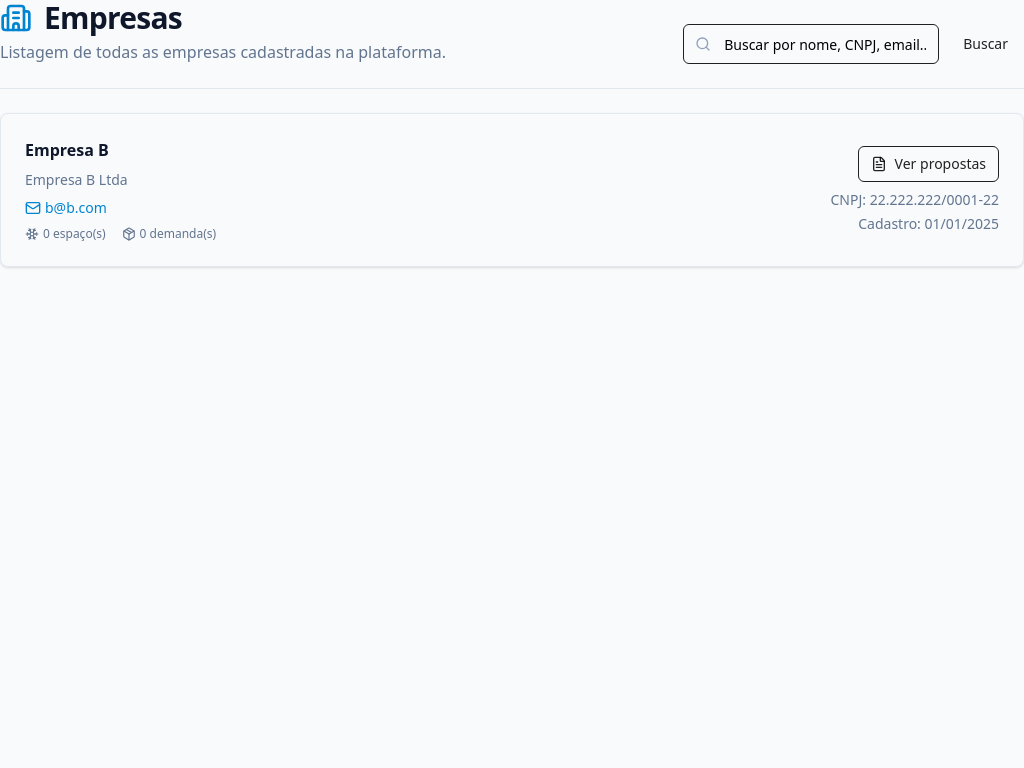
Test: AdminCompaniesPanel › deve abrir sheet ao clicar em Ver propostas
The image size is (1024, 768).
Expected: the heading "Empresa B" is shown, left=25, top=138, right=109, bottom=162
What coordinates should you click on to do the following:
click the button "Ver propostas"
I would click on:
 (928, 164)
Its box is left=858, top=146, right=999, bottom=182.
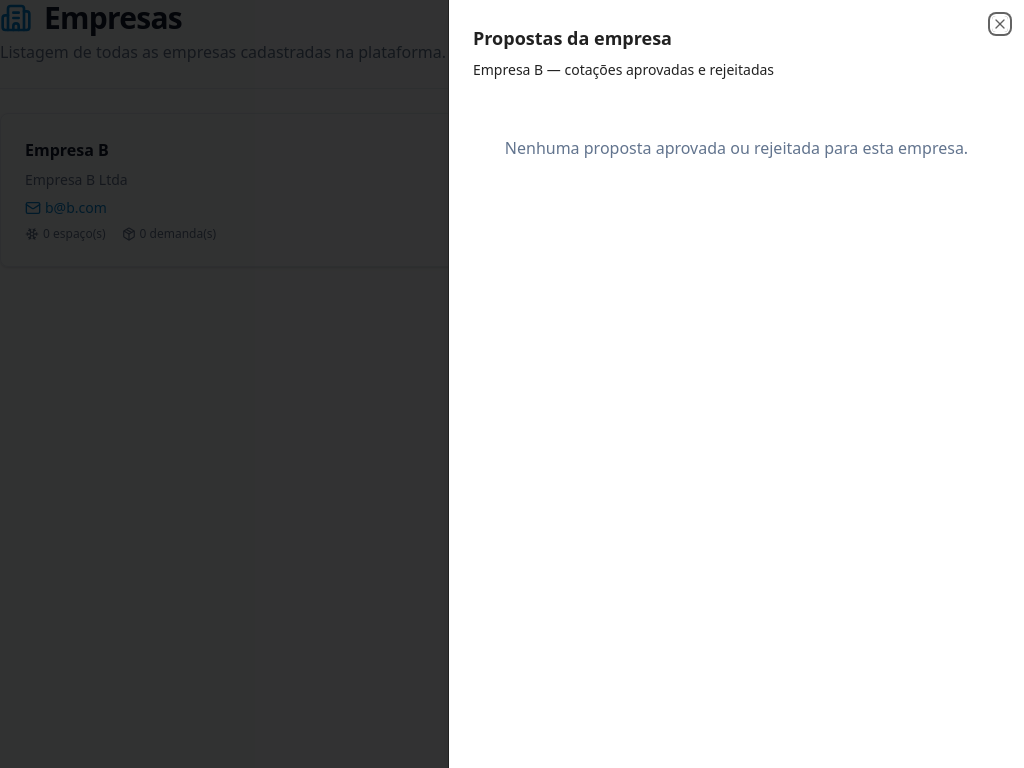
Expected: the heading "Propostas da empresa" is shown, left=473, top=26, right=672, bottom=50
